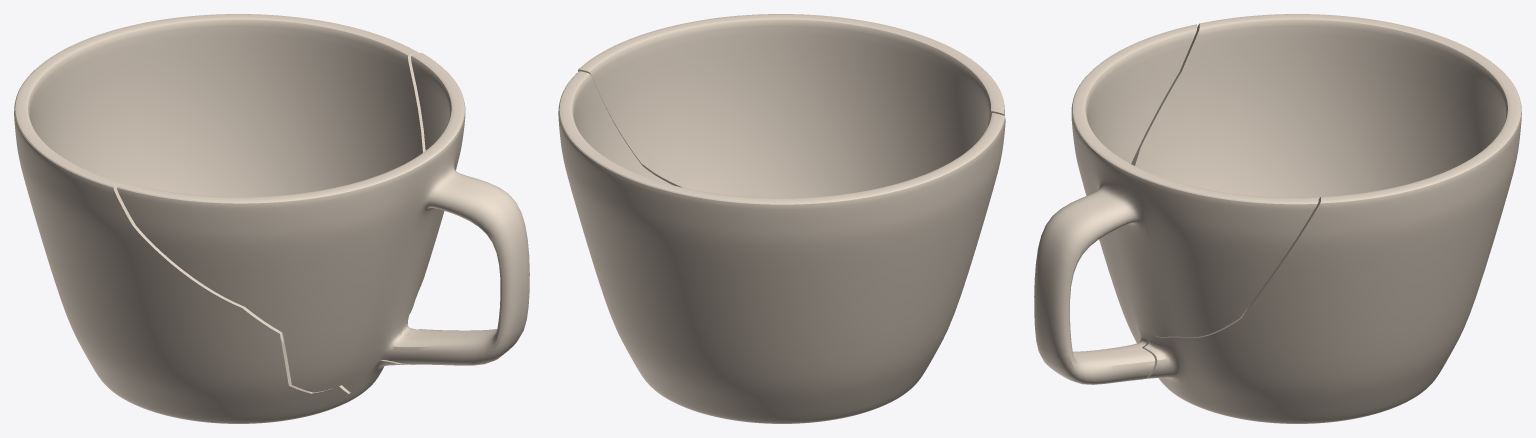
Rendered from 摔碎的杯子.fbx.
3 renders of one model, left to right at view 1: azimuth 30°, elevation 25°; view 2: azimuth 150°, elevation 25°; view 3: azimuth 270°, elevation 25°, orthographic.
Visible parts, largest first — view 1: Circle.014, Circle.013; view 2: Circle.014, Circle.013; view 3: Circle.014, Circle.013.
Part boxes in pixels (x1,y1,x2,y2): Circle.014: (14, 14, 425, 423); Circle.013: (117, 53, 529, 392); Circle.014: (558, 71, 1005, 423); Circle.013: (578, 14, 1004, 198); Circle.014: (1135, 14, 1521, 423); Circle.013: (1034, 24, 1318, 384).
Bounding box in the file's own units: 137 × 86.58 × 148.
